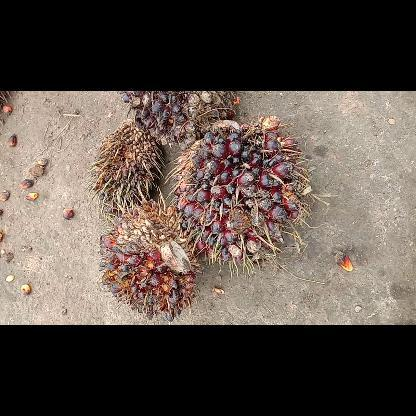Kurang masak: (176, 119, 308, 268), (119, 90, 236, 146)
TBS abnormal: (93, 118, 161, 212)
TBS masak: (97, 202, 201, 318)
